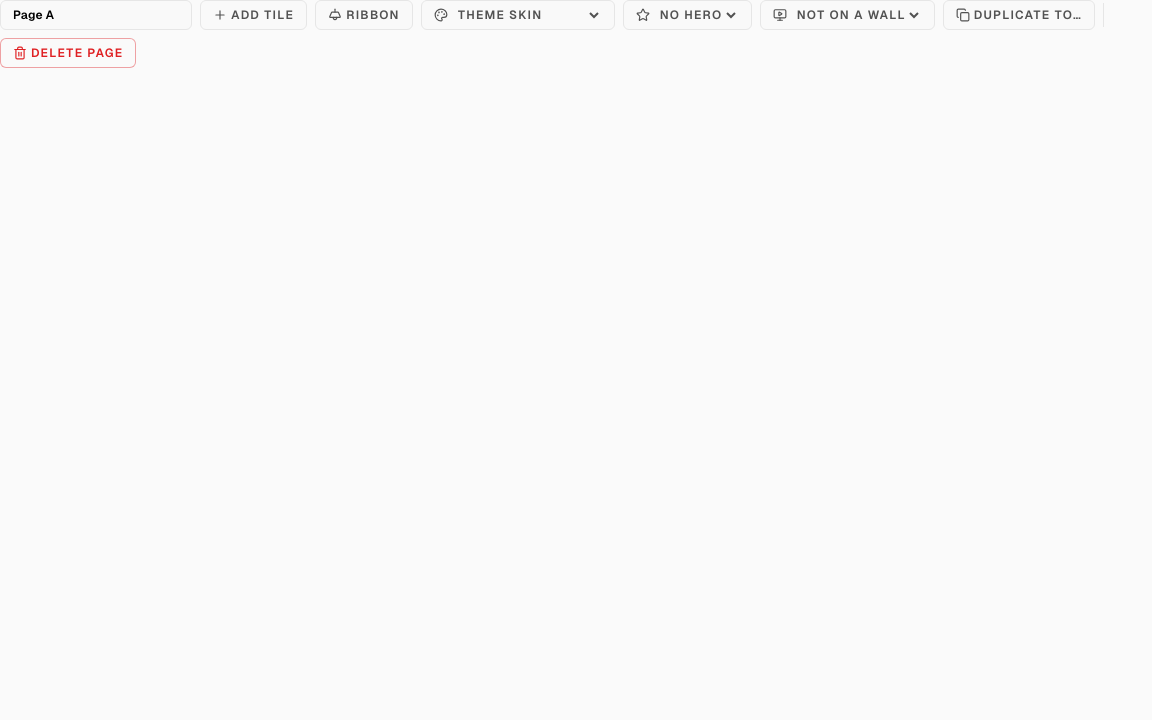
Test case: LayoutToolbar — Delete page › clicking Delete page asks for confirmation instead of deleting immediately
Click the button "Delete page".
click(68, 53)  # box x1=0 y1=38 x2=136 y2=68
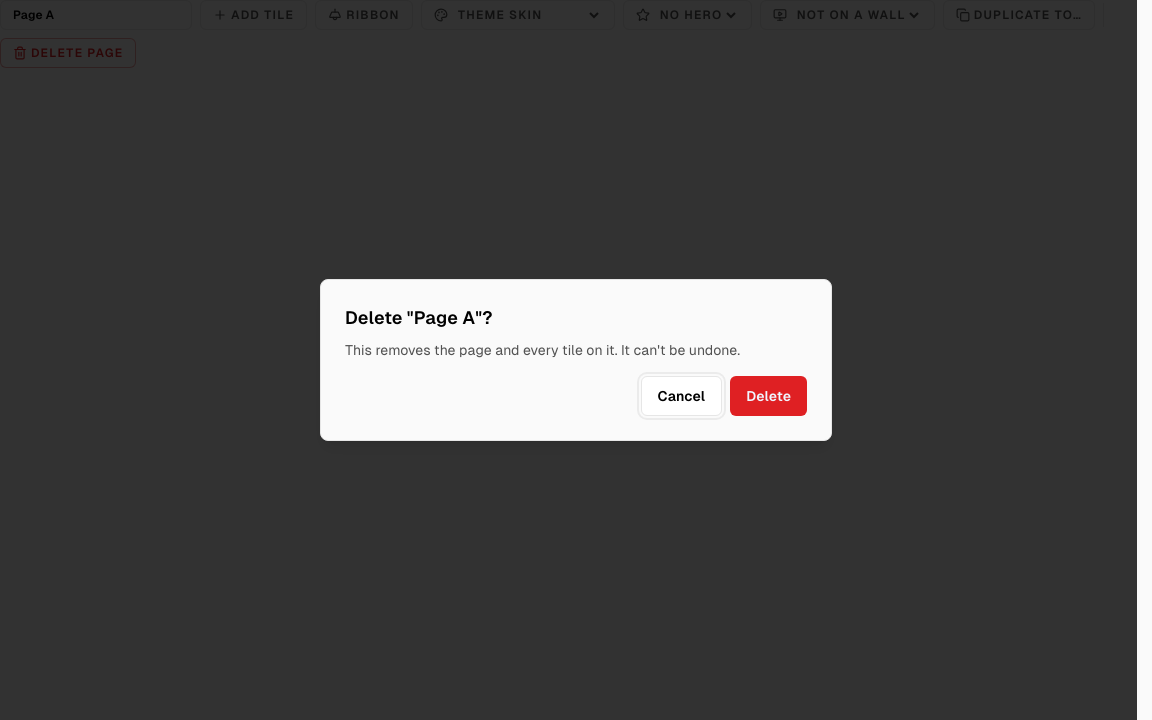
Now the heading "Delete \"Page A\"?" is shown, box x1=345 y1=307 x2=492 y2=328
